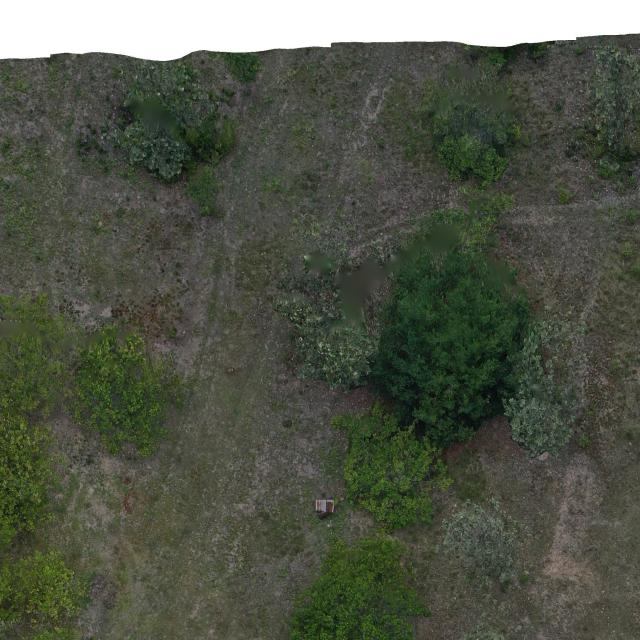Tree: (358, 210, 531, 448), (267, 214, 403, 392), (57, 320, 193, 460), (100, 55, 242, 189), (330, 399, 454, 533), (411, 52, 533, 183), (283, 534, 433, 640), (502, 304, 592, 460), (589, 44, 640, 156)
